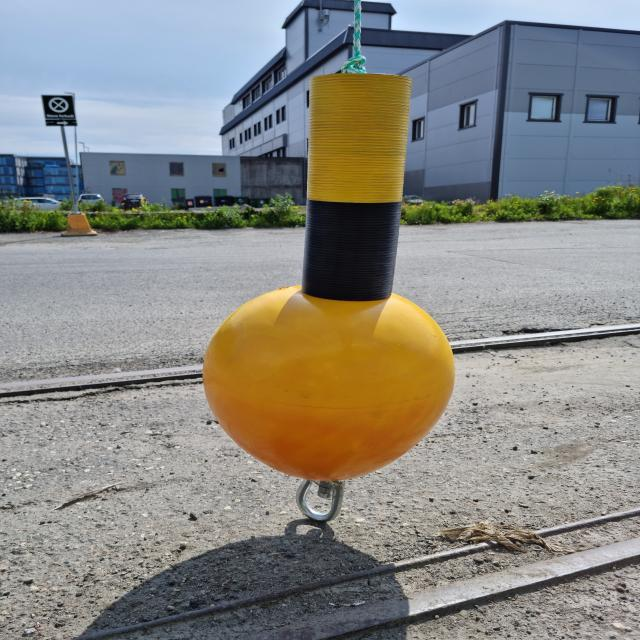west: (203, 69, 458, 483)
